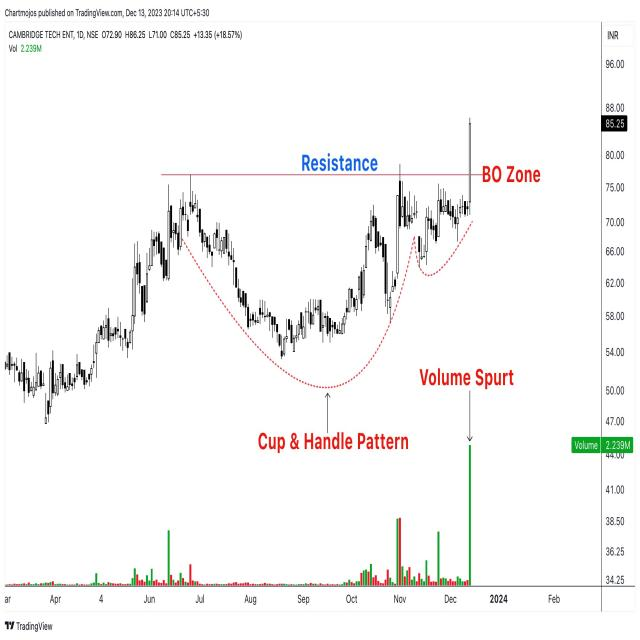Cup-and-handle: (170, 179, 474, 364)
